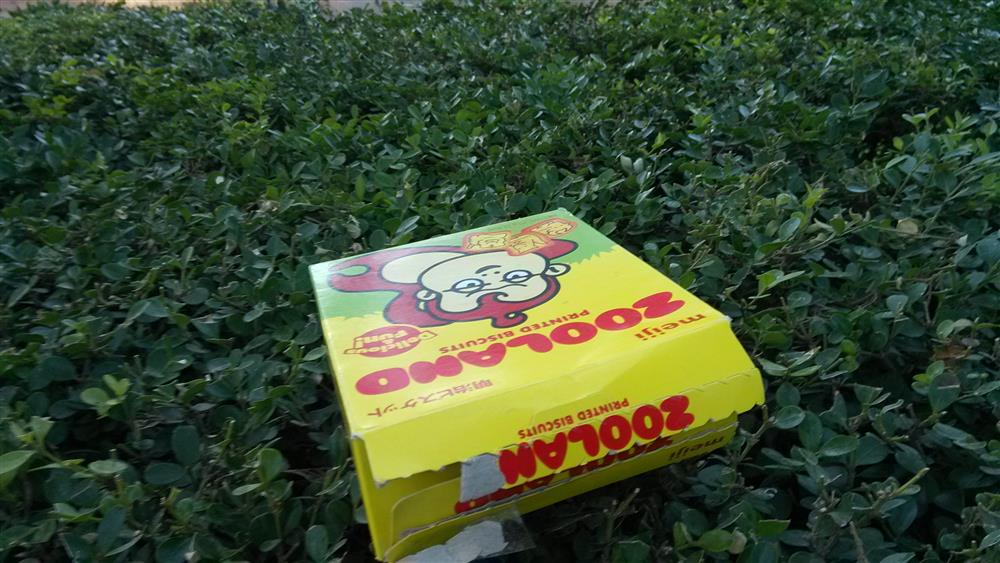zooland: (306, 202, 764, 552)
